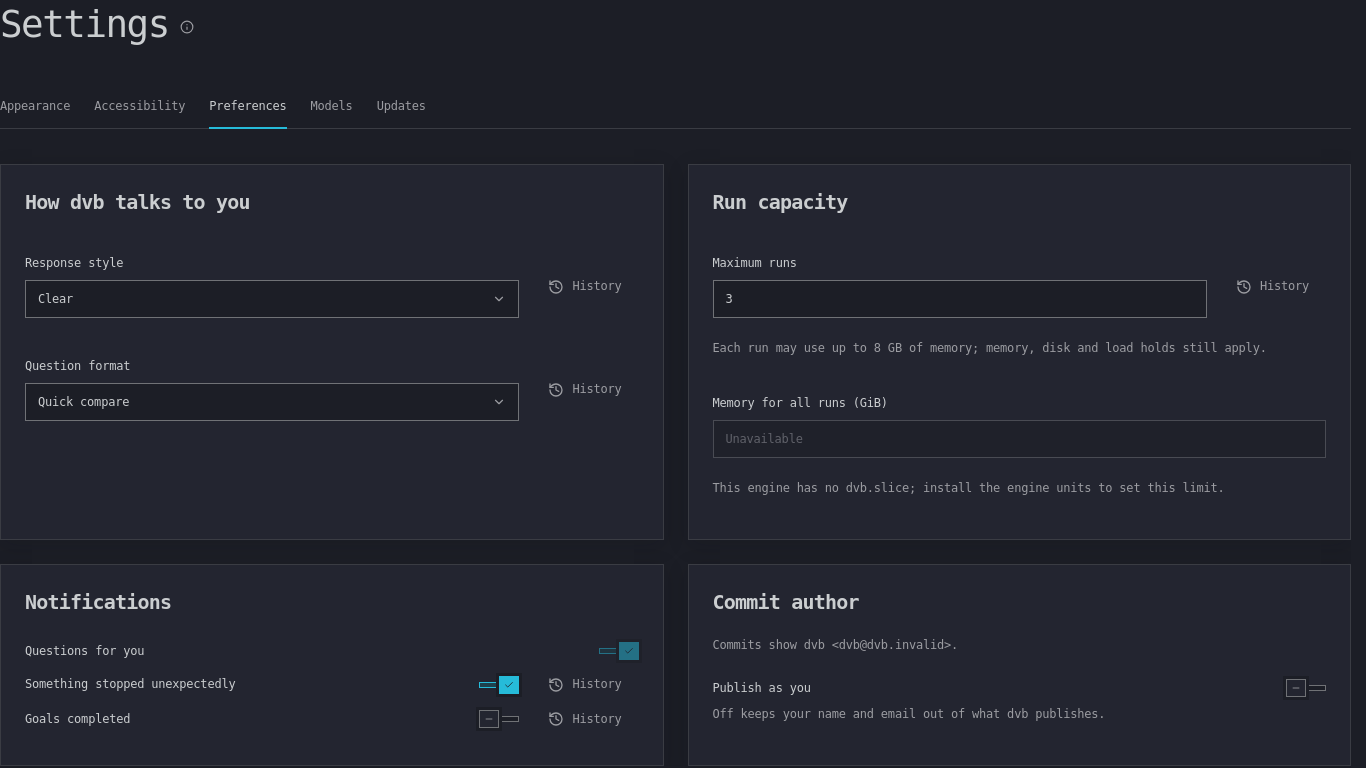
history and restore › refocuses its History button when the sheet closes
This screenshot has width=1366, height=768.
Click the button with aria-label "History of Response style" at (585, 287), box [531,269,638,304]
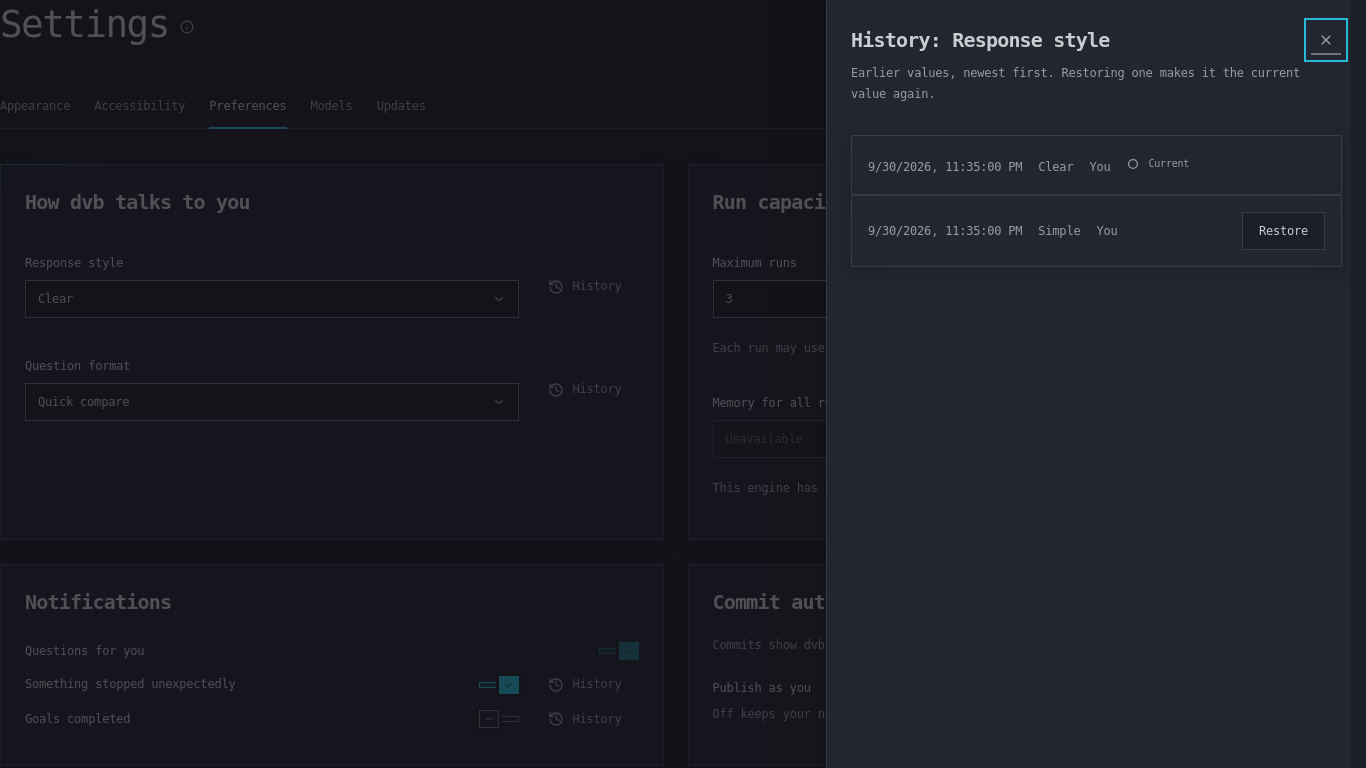
Expected: the element named "History" is shown, [851,135,1342,267]
Press Escape
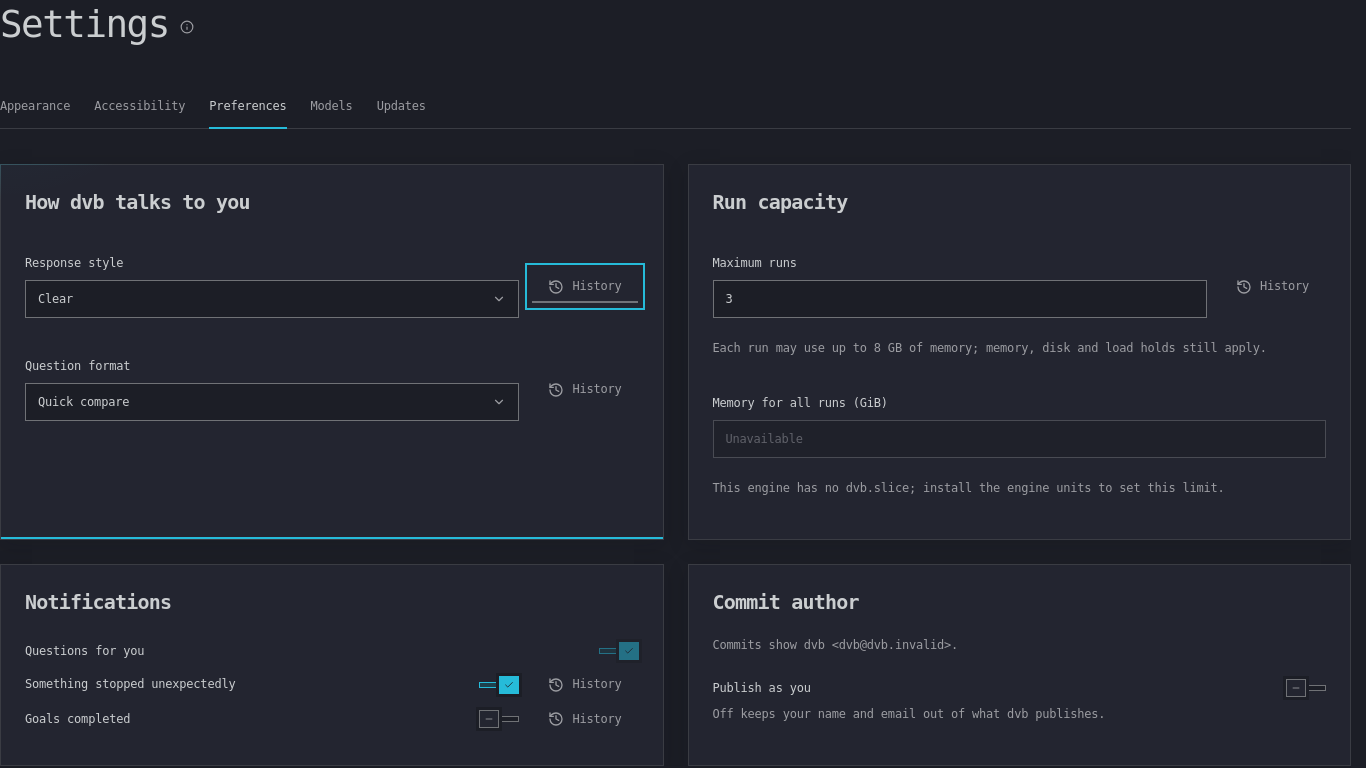
Expected: the dialog is gone
